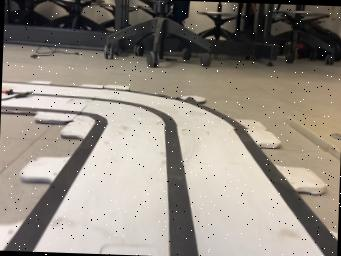street: (0, 79, 337, 256), (0, 79, 337, 256), (0, 79, 337, 256), (0, 79, 337, 256), (0, 79, 337, 256), (0, 79, 337, 256)
